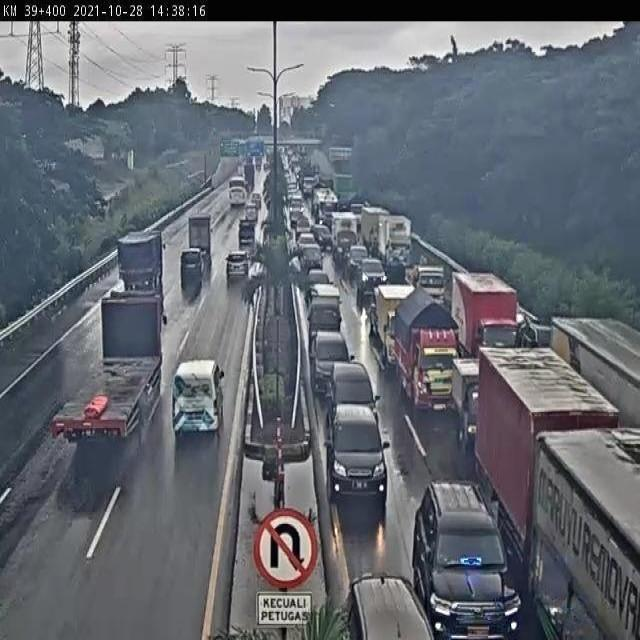Bus: (228, 176, 248, 207)
Car: (412, 482, 519, 638), (323, 404, 391, 506), (344, 572, 439, 640), (311, 329, 350, 399), (476, 318, 520, 352), (180, 248, 204, 295), (355, 256, 388, 287), (347, 245, 371, 282), (225, 250, 249, 284), (312, 224, 332, 254)
Truck: (478, 346, 617, 525), (533, 433, 640, 640), (51, 290, 166, 443), (392, 288, 457, 406), (453, 271, 517, 346), (114, 230, 165, 292), (331, 212, 357, 266), (188, 210, 212, 252)
Van: (172, 359, 225, 439)
